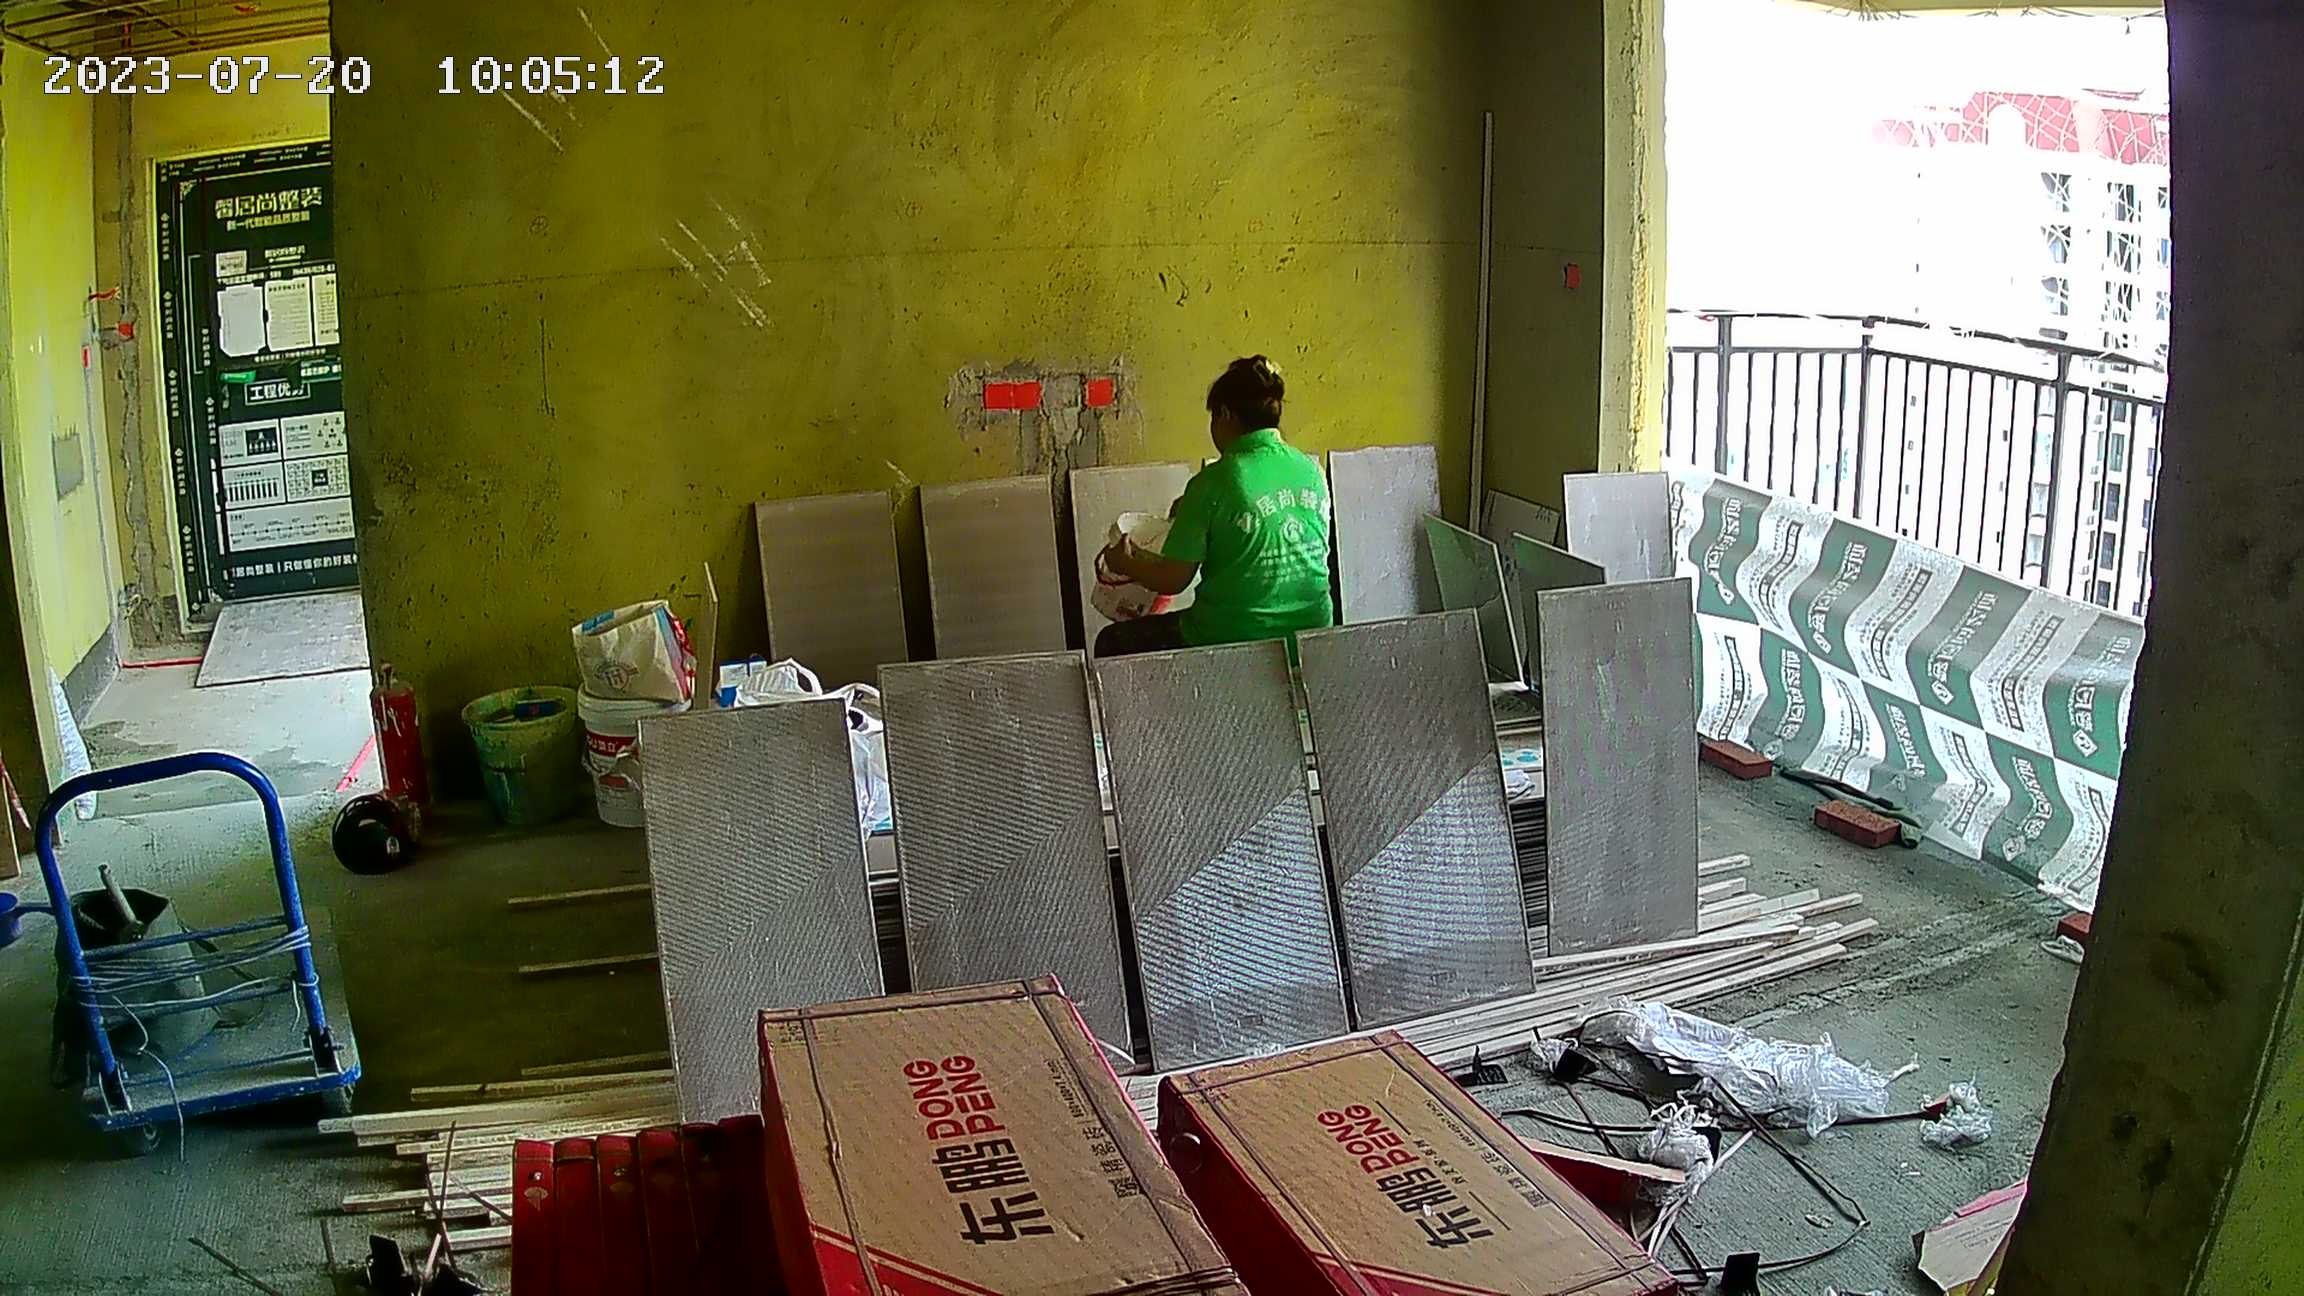people: (1105, 355, 1349, 644)
window: (1666, 2, 2170, 618)
